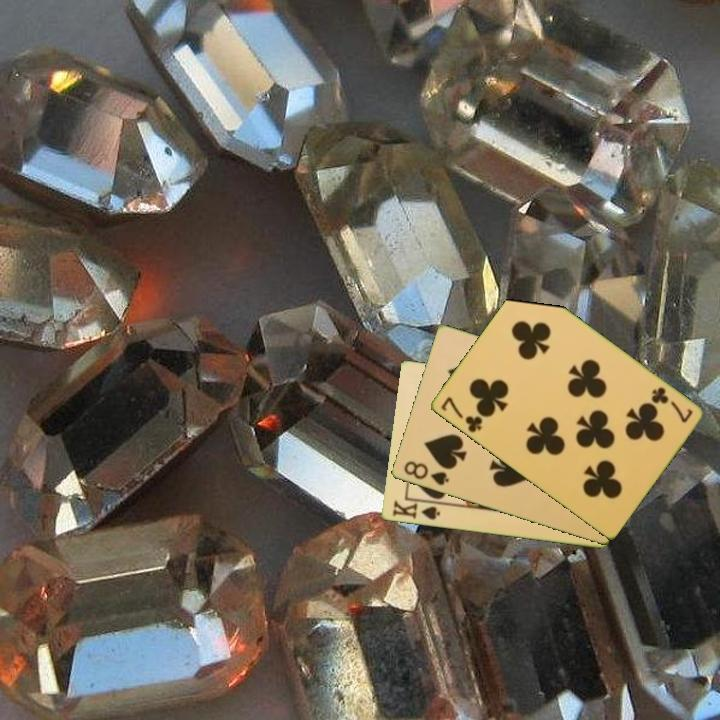7c: (436, 393, 485, 436), (647, 383, 695, 426)
8s: (400, 457, 452, 489)
Ks: (389, 496, 444, 523)
